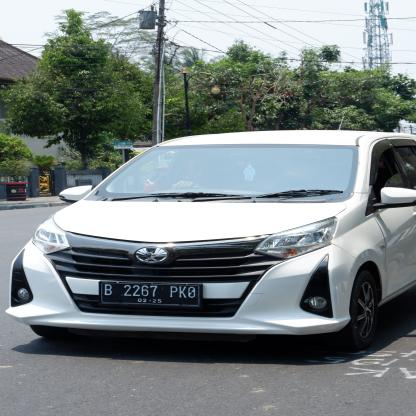Plat-Nomor: (99, 280, 203, 310)
